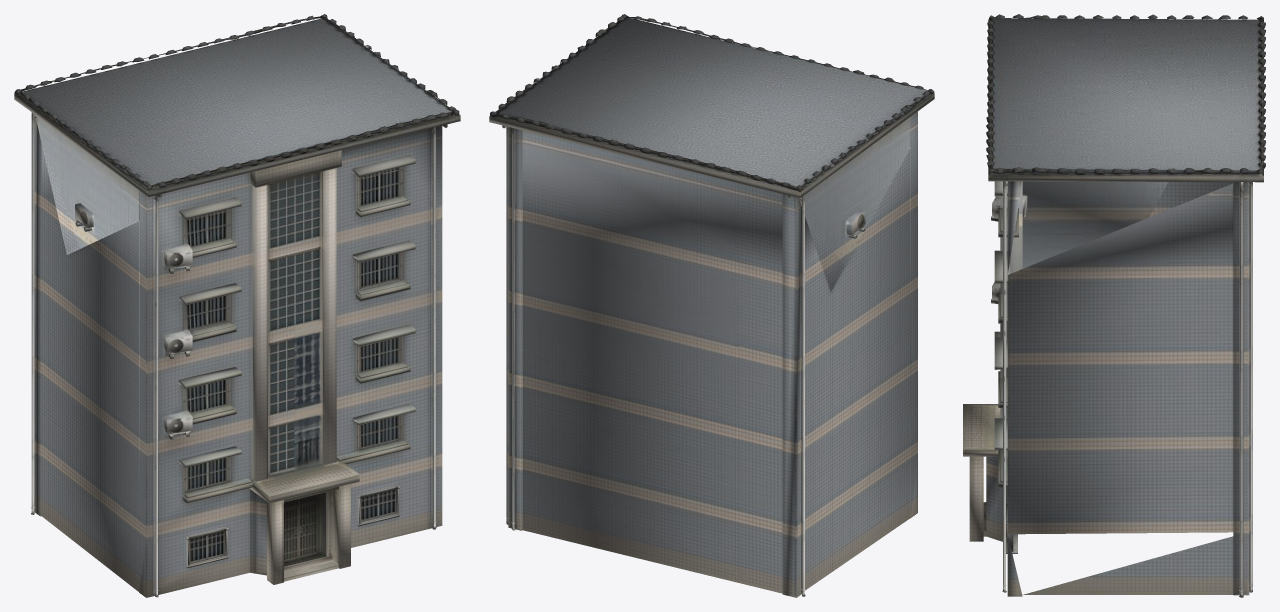
File: facade-apartment-a.glb
The picture shows the model from 3 angles, left to right: view 1: azimuth 30°, elevation 25°; view 2: azimuth 150°, elevation 25°; view 3: azimuth 270°, elevation 25°; orthographic projection. The views are drawn at different scales.
Visible parts, largest first — view 1: tripo_node_76a08a53-9e11-4995-9259-f4fcf3f77bb1; view 2: tripo_node_76a08a53-9e11-4995-9259-f4fcf3f77bb1; view 3: tripo_node_76a08a53-9e11-4995-9259-f4fcf3f77bb1.
Boxes of the visible parts, x1,y1,x2,y2 form: tripo_node_76a08a53-9e11-4995-9259-f4fcf3f77bb1: (14,14,460,597); tripo_node_76a08a53-9e11-4995-9259-f4fcf3f77bb1: (489,14,934,597); tripo_node_76a08a53-9e11-4995-9259-f4fcf3f77bb1: (963,14,1265,597).
Size of the model in its own units: 0.7754 by 0.998 by 0.6348.
Materials: 1 (1 with a texture image).
